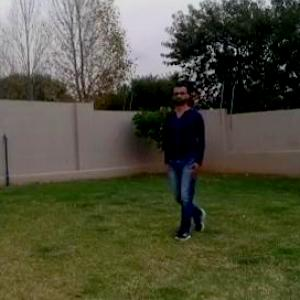follow: (168, 82, 204, 226)
